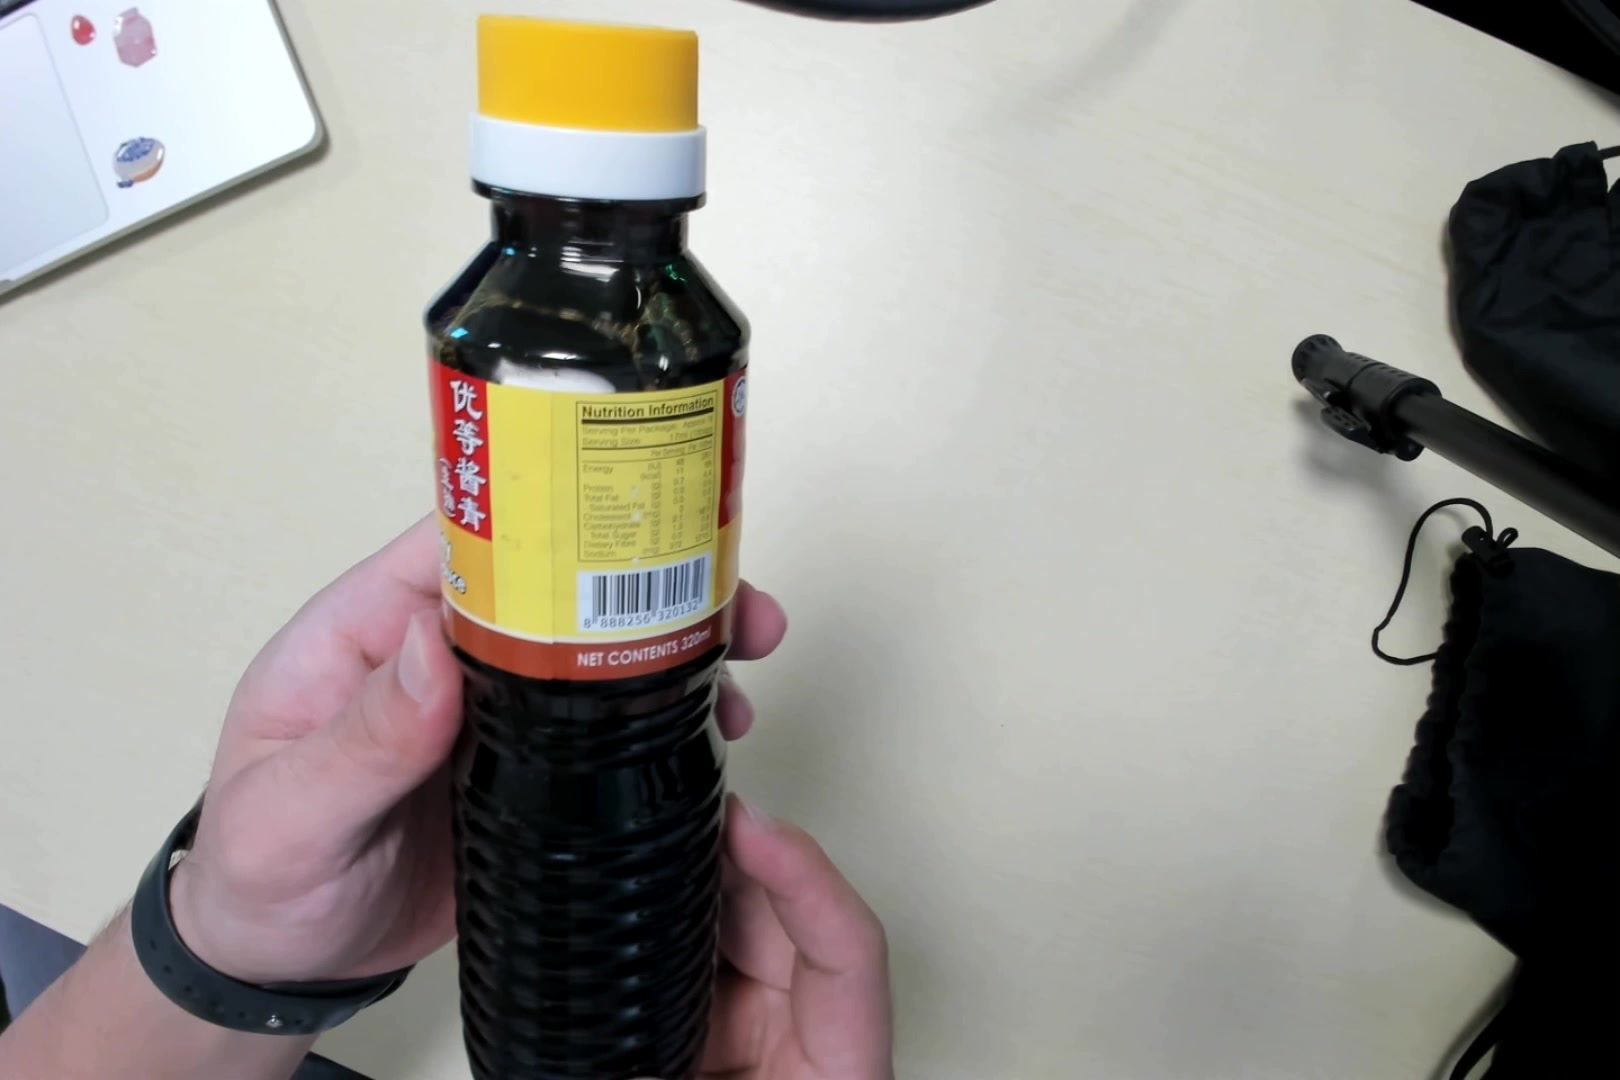LightSoySauce_300-399g_Halal_NonHealthy: (413, 13, 749, 1080)
